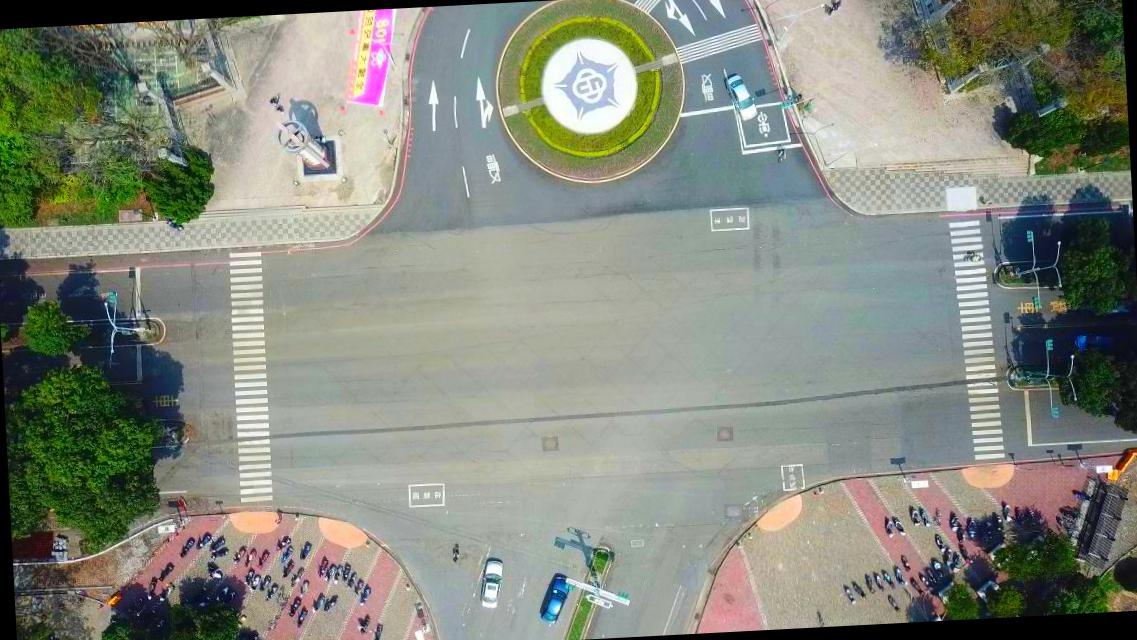vehicle: (538, 574, 573, 626), (723, 72, 758, 124), (1064, 330, 1124, 358), (476, 558, 505, 609)
